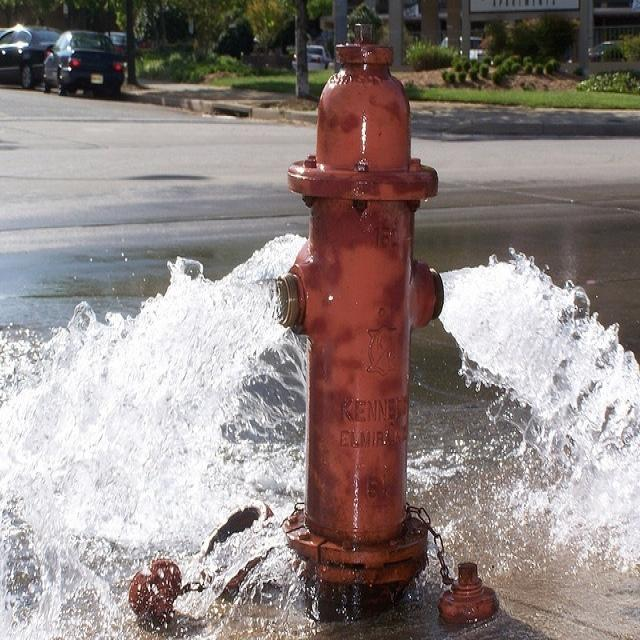fire_hydrant: (280, 46, 452, 576)
